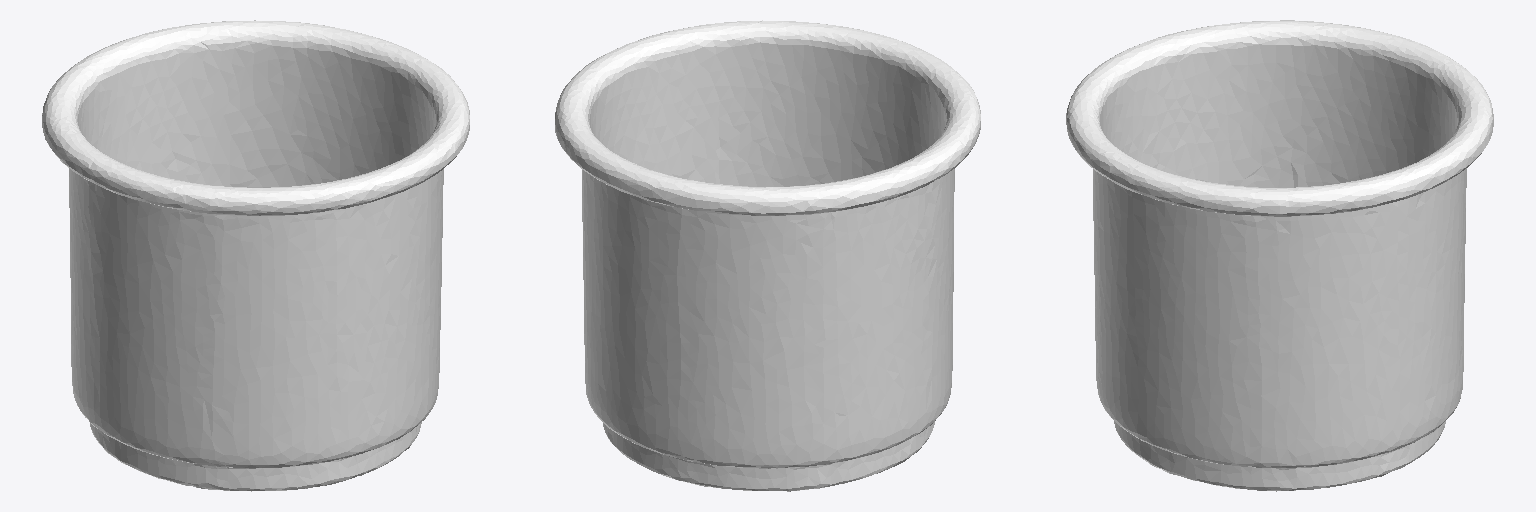
The robot description file, URDF, robot "065-d_cups":
<robot name="065-d_cups">
	<link name="_name">
		<visual>
			<origin xyz="0.18377150074668475 0.5978666522006068 -0.31583043482046014" rpy="0 0 0" />
			<geometry>
				<mesh filename="065-d_cups/google_16k/textured.obj" scale="10 10 10" />
			</geometry>
			<material name="texture">
				<color rgba="1.0 1.0 1.0 1.0" />
			</material>
		</visual>
		<collision>
			<geometry>
				<mesh filename="065-d_cups/google_16k/textured_vhacd.obj" scale="10 10 10" />
			</geometry>
		<origin xyz="0.18377150074668475 0.5978666522006068 -0.31583043482046014" rpy="0 0 0" /></collision>
		<inertial>
			<mass value="1.0" />
			<inertia ixx="1.0" ixy="0.0" ixz="0.0" iyy="1.0" iyz="0.0" izz="1.0" />
		</inertial>
	</link>
</robot>

--- Facts derived from the render (not from the file) ---
Views: 3 orthographic renders of the robot side by side, from view 1: azimuth 30°, elevation 25°; view 2: azimuth 150°, elevation 25°; view 3: azimuth 270°, elevation 25°.
Model 065-d_cups with 1 links and 0 joints (none), rooted at _name, posed every joint at zero.
Links seen in each view (by area): view 1: _name; view 2: _name; view 3: _name.
Boxes of the visible links, x1,y1,x2,y2 form: _name: [42, 20, 469, 491]; _name: [555, 20, 980, 491]; _name: [1066, 20, 1493, 491].
Bounding box of the posed robot: 0.915 × 0.9162 × 0.7506 m (x, y, z).
Meshes: 1 distinct files referenced, 1 mesh visuals loaded (1 OBJ).